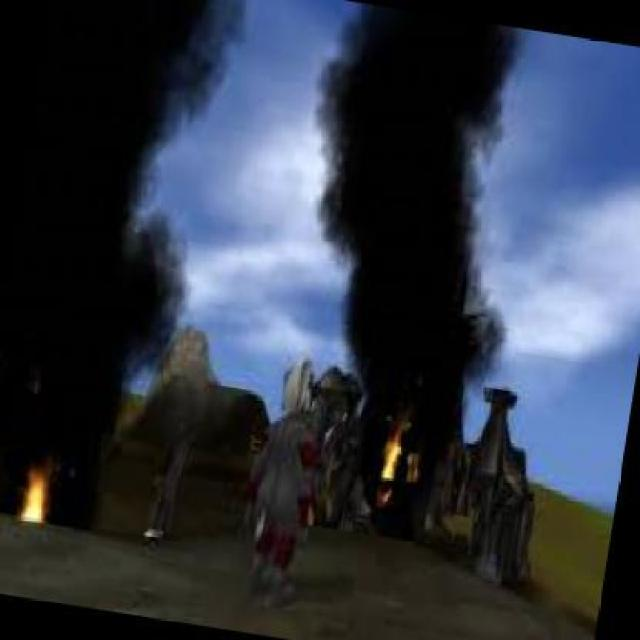Fire: (18, 466, 65, 540), (369, 420, 418, 483)
Smoke: (9, 2, 252, 400), (322, 0, 524, 389)
